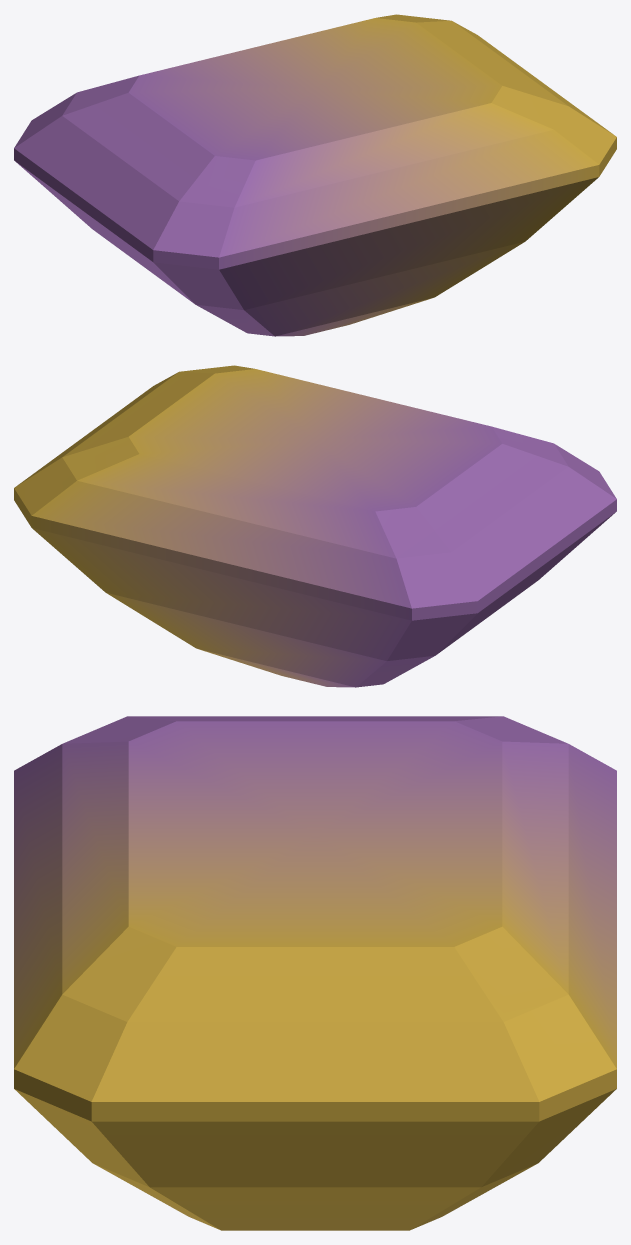
The model's file is ametrine.glb.
The picture shows the model from 3 angles, top to bottom: view 1: azimuth 30°, elevation 25°; view 2: azimuth 150°, elevation 25°; view 3: azimuth 270°, elevation 25°; orthographic projection. The views are drawn at different scales.
Visible parts, largest first — view 1: ametrine; view 2: ametrine; view 3: ametrine.
Boxes of the visible parts, x1,y1,x2,y2 form: ametrine: (14, 14, 616, 336); ametrine: (14, 365, 616, 687); ametrine: (14, 716, 616, 1230).
Size of the model in its own units: 0.25 by 0.12 by 0.175.
